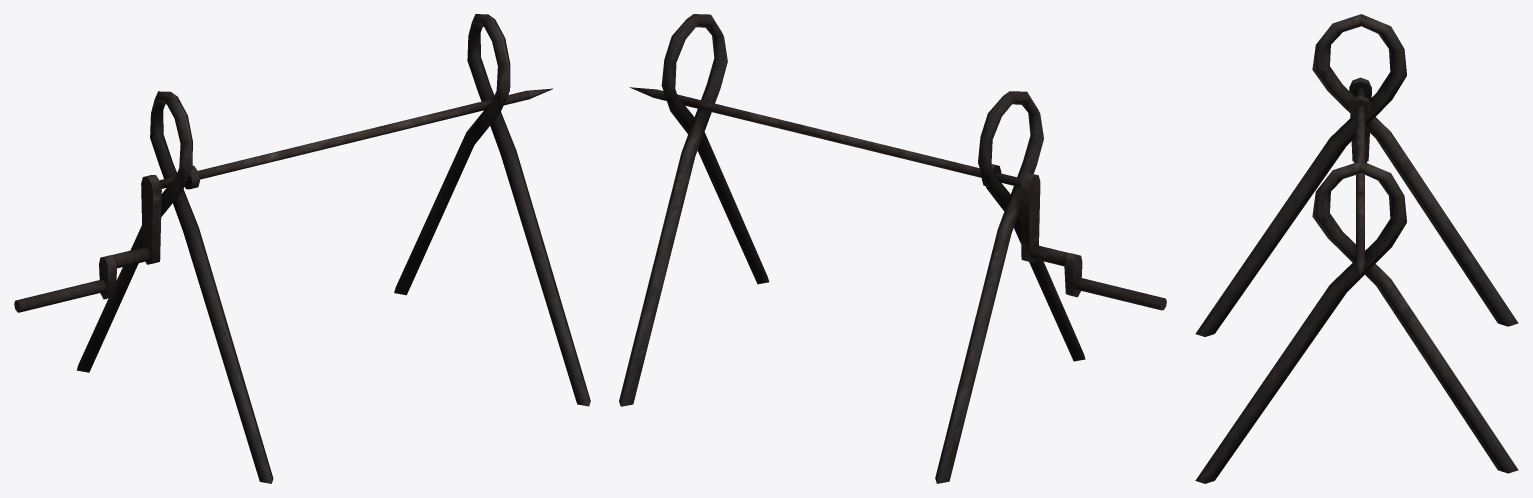
Rendered from scewer_place.dae.
3 renders of one model, left to right at view 1: azimuth 30°, elevation 25°; view 2: azimuth 150°, elevation 25°; view 3: azimuth 270°, elevation 25°, orthographic. The views are drawn at different scales.
Parts seen in each view (by area): view 1: holder, wrench; view 2: holder, wrench; view 3: holder, wrench.
Boxes of the visible parts, x1,y1,x2,y2 form: holder: [76, 14, 590, 483]; wrench: [14, 88, 553, 312]; holder: [619, 14, 1085, 483]; wrench: [629, 87, 1166, 310]; holder: [1195, 14, 1518, 483]; wrench: [1349, 77, 1371, 275].
Bounding box in the file's own units: 1.49 × 0.8779 × 0.8195.
